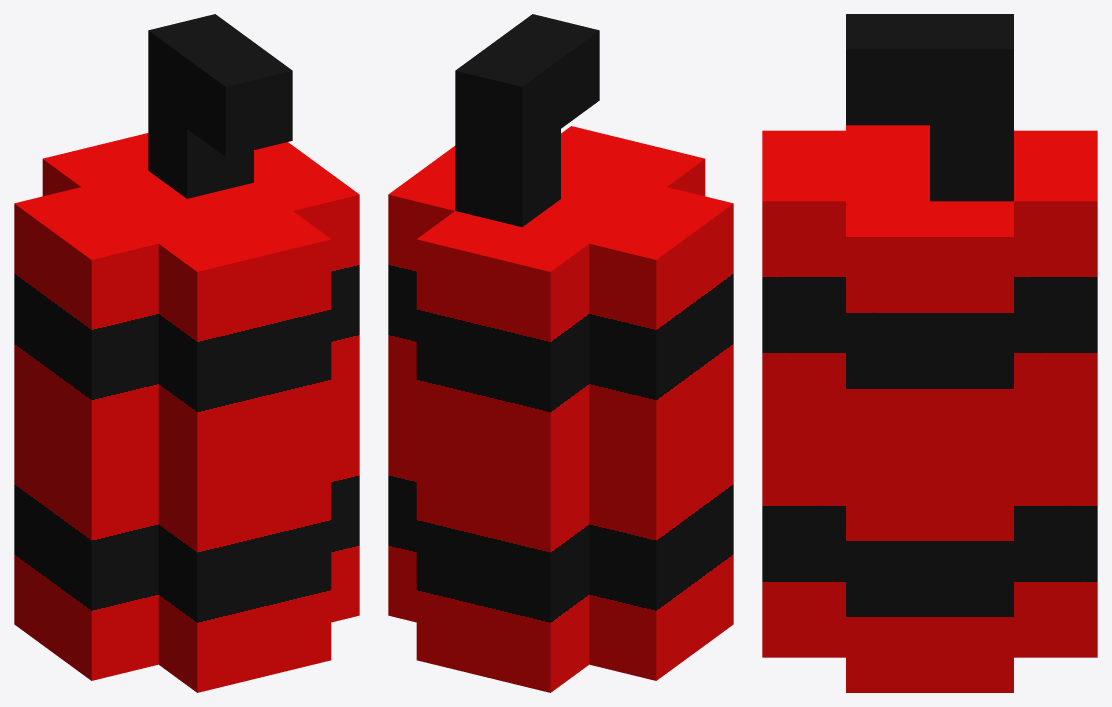
File: tnt.dae
3 renders of one model, left to right at view 1: azimuth 30°, elevation 25°; view 2: azimuth 150°, elevation 25°; view 3: azimuth 270°, elevation 25°, orthographic. The views are drawn at different scales.
Parts seen in each view (by area): view 1: tnt; view 2: tnt; view 3: tnt.
Boxes of the visible parts, x1=… form: tnt: x1=14, y1=14, x2=359, y2=692; tnt: x1=388, y1=14, x2=733, y2=692; tnt: x1=762, y1=14, x2=1097, y2=692.
Size of the model in its own units: 0.4 by 0.8 by 0.4.
1 material, 1 textured.
